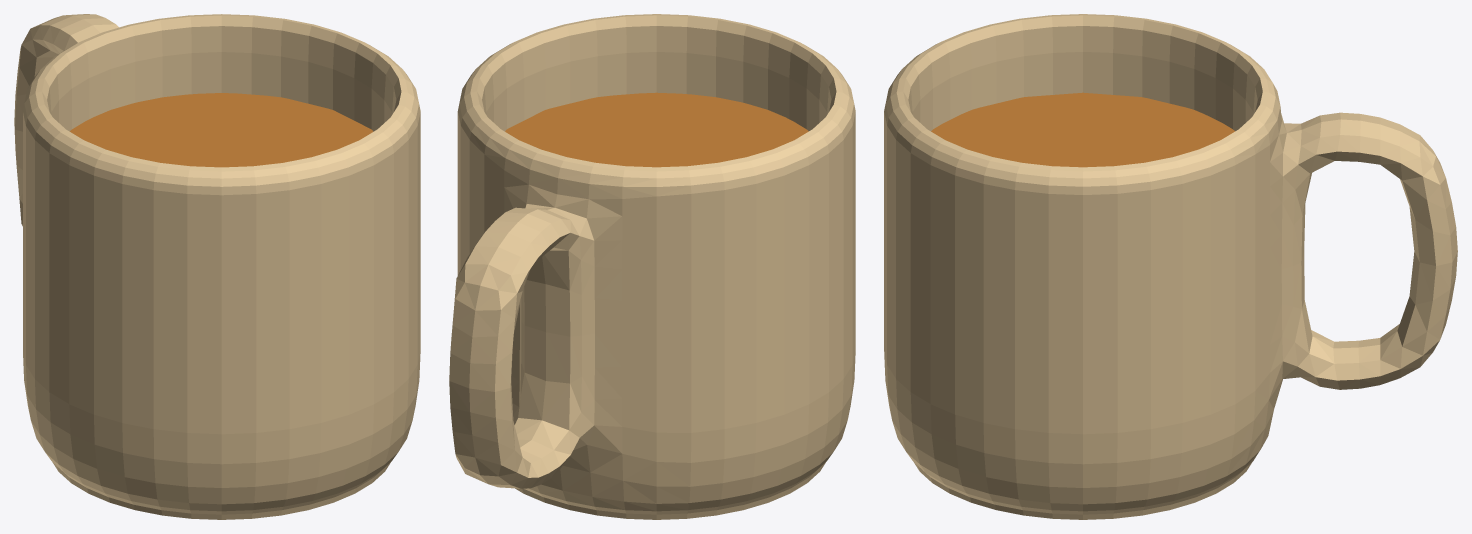
The model's file is Cup.FBX.
3 views of the same model, side by side, from view 1: azimuth 30°, elevation 25°; view 2: azimuth 150°, elevation 25°; view 3: azimuth 270°, elevation 25° (orthographic).
Visible parts, largest first — view 1: Cylinder004, Cylinder005; view 2: Cylinder004, Cylinder005; view 3: Cylinder004, Cylinder005.
Boxes of the visible parts, bbox=[...] form: Cylinder004: bbox=[14, 14, 420, 519]; Cylinder005: bbox=[70, 93, 373, 167]; Cylinder004: bbox=[449, 14, 855, 519]; Cylinder005: bbox=[505, 92, 808, 167]; Cylinder004: bbox=[884, 14, 1457, 519]; Cylinder005: bbox=[931, 92, 1234, 167].
Size of the model in its own units: 4.76 by 4.77 by 6.86.
